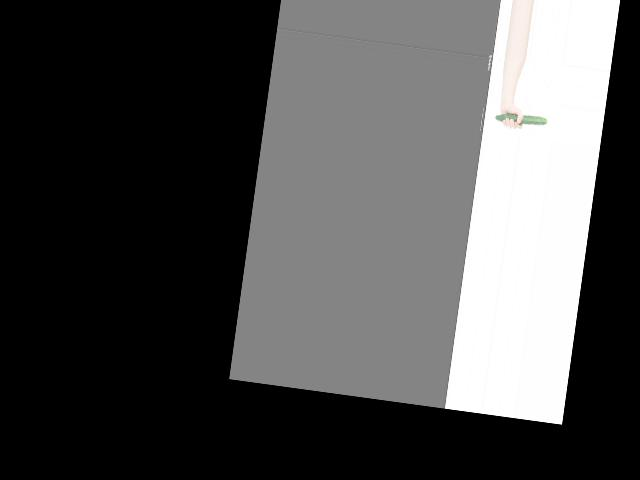cucumber: (493, 110, 547, 128)
